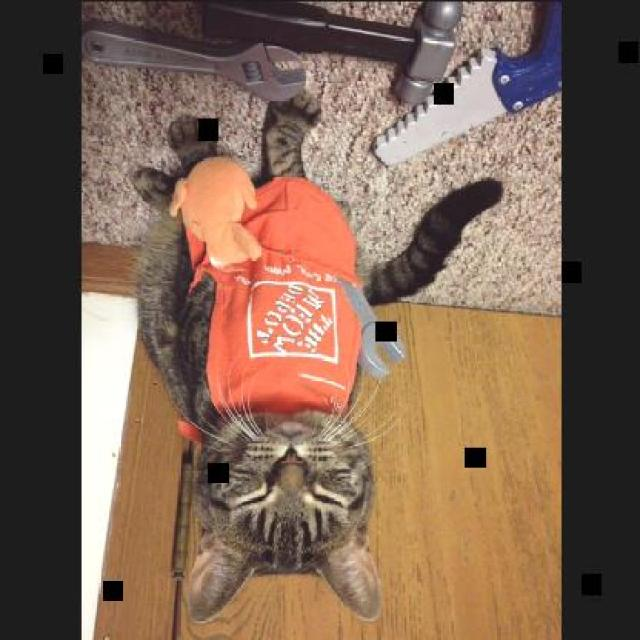unauthorized: (128, 88, 503, 624), (183, 366, 395, 625)
